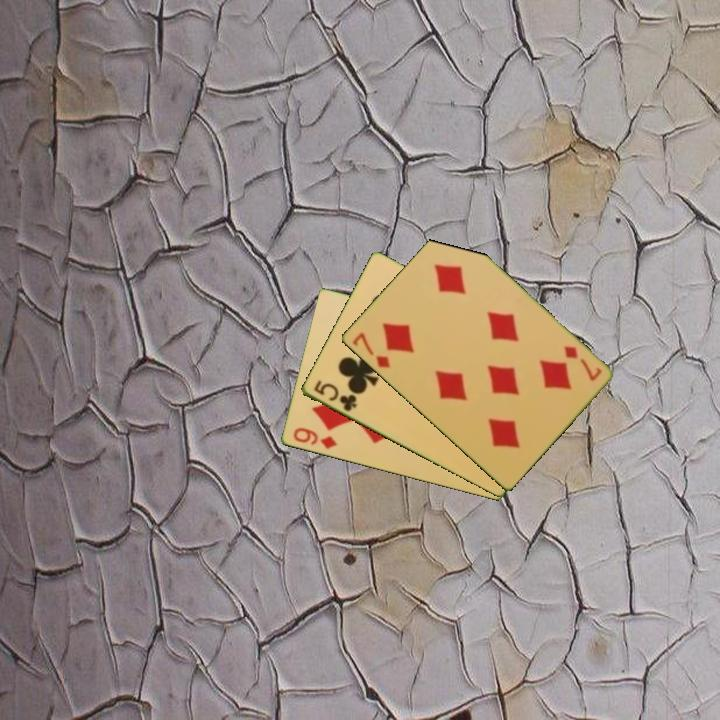5c: (310, 377, 359, 415)
7d: (348, 329, 393, 371), (559, 342, 604, 384)
9d: (289, 424, 340, 452)
